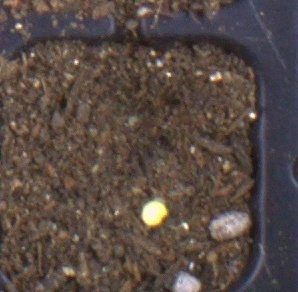chilli seed: (141, 200, 168, 227)
